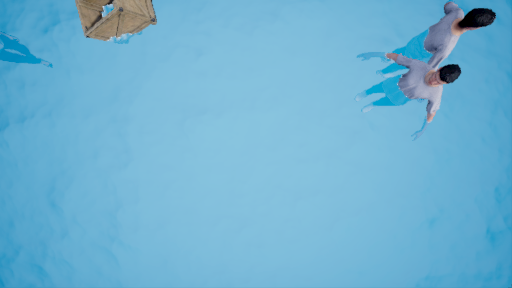person: (364, 1, 492, 136)
